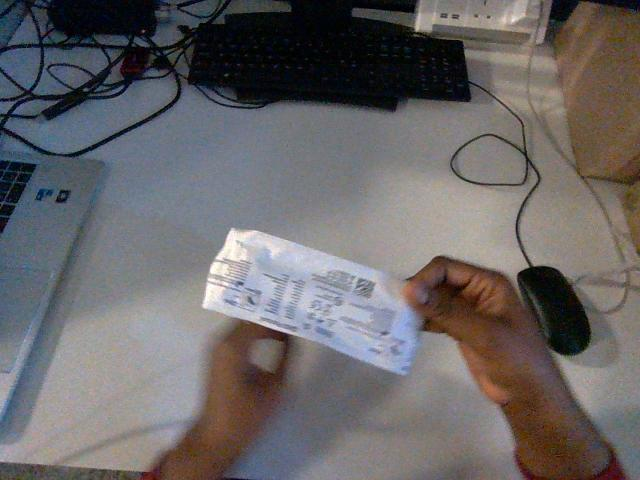syringe: (203, 229, 421, 374)
